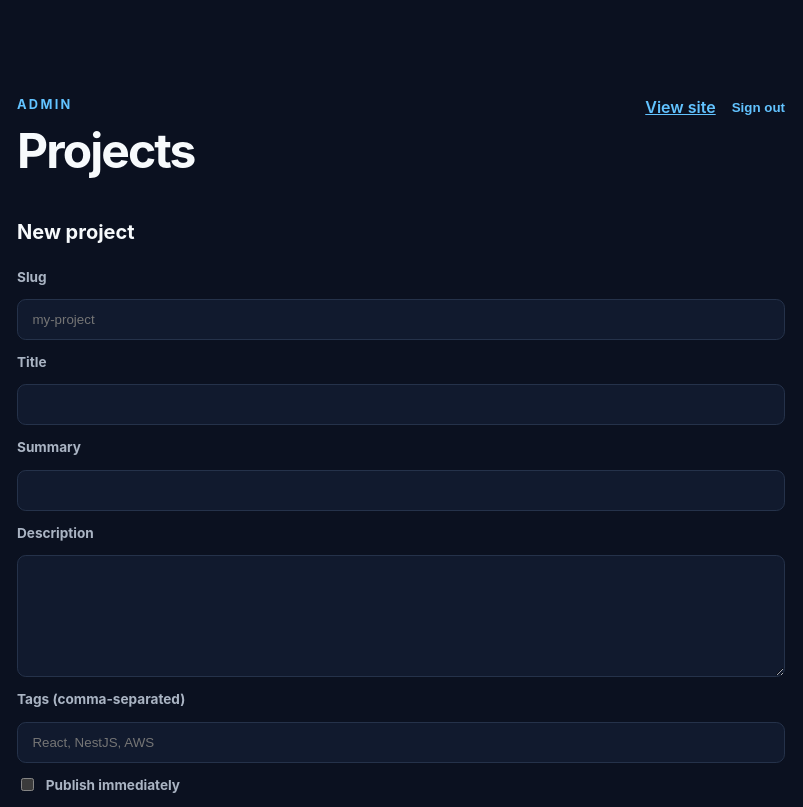
Test: App › creates a project from the admin form
This screenshot has width=803, height=807.
Expected: the heading "New project" is shown, [17,220,135,244]
Step 1. Type "new-project" into the field labelled "Slug" → (401, 320), box [17,299,785,340]
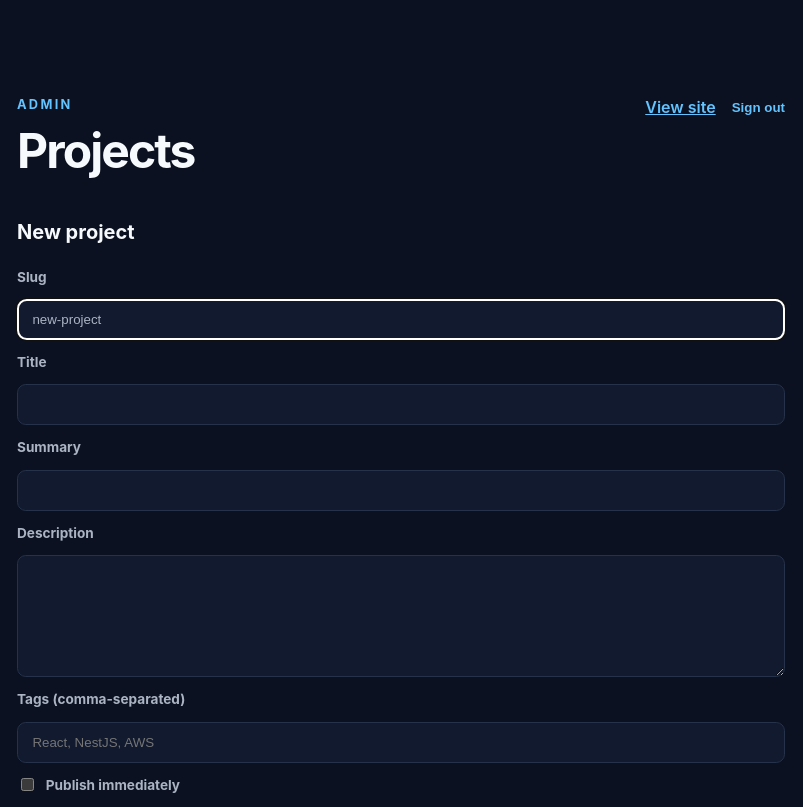
Step 2. Type "New Project" into the field labelled "Title" → (401, 405), box [17,384,785,425]
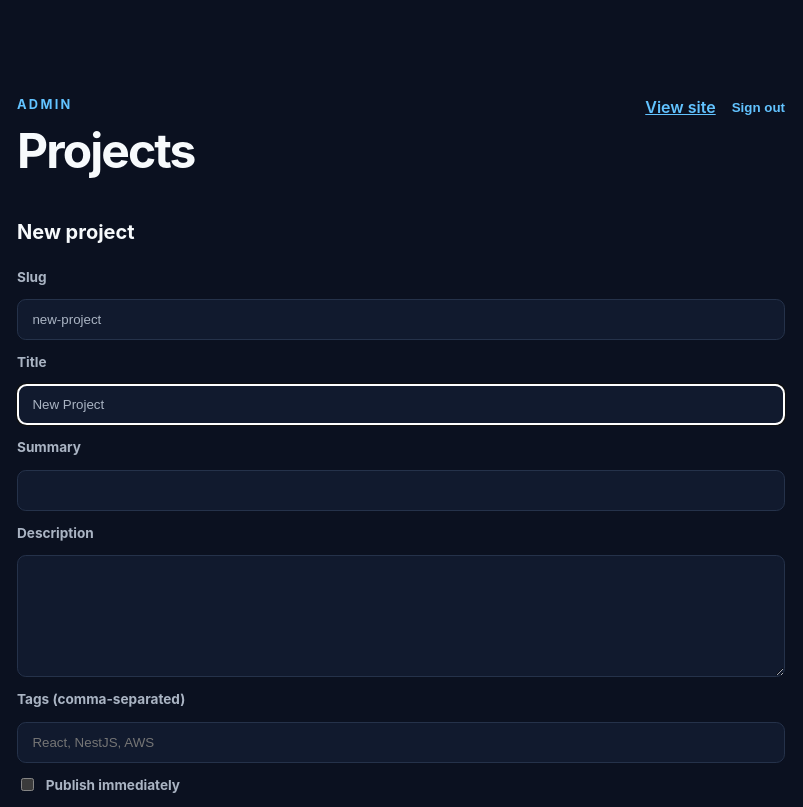
Step 3. Type "Created from admin UI for testing." into the field labelled "Summary" → (401, 490), box [17,470,785,511]
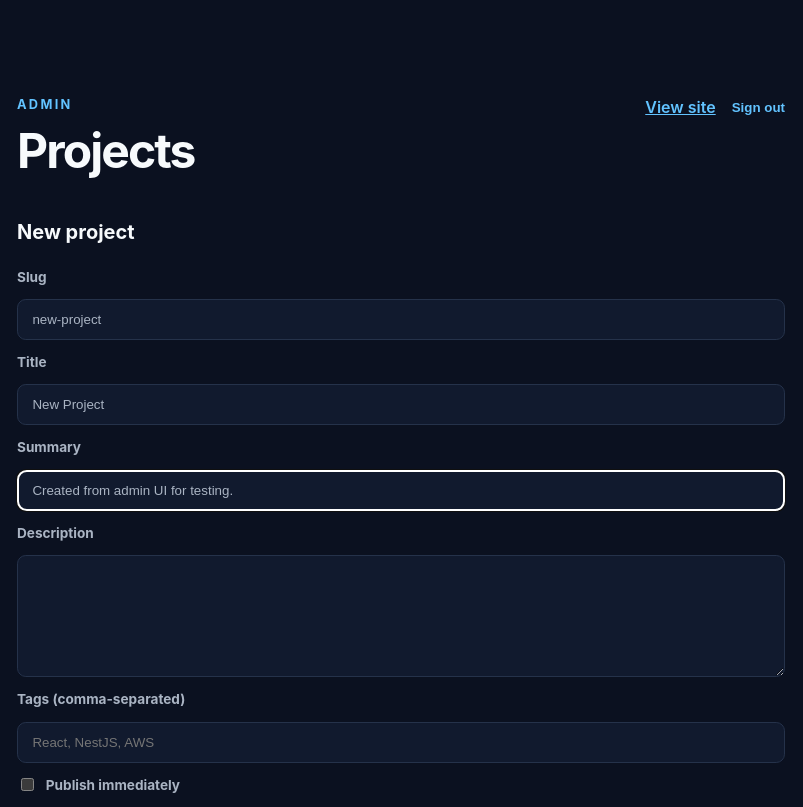
Step 4. Type "A longer description that satisfies the create validation rules." into the text box labelled "Description" → (401, 616), box [17,555,785,677]
(page scrolled)
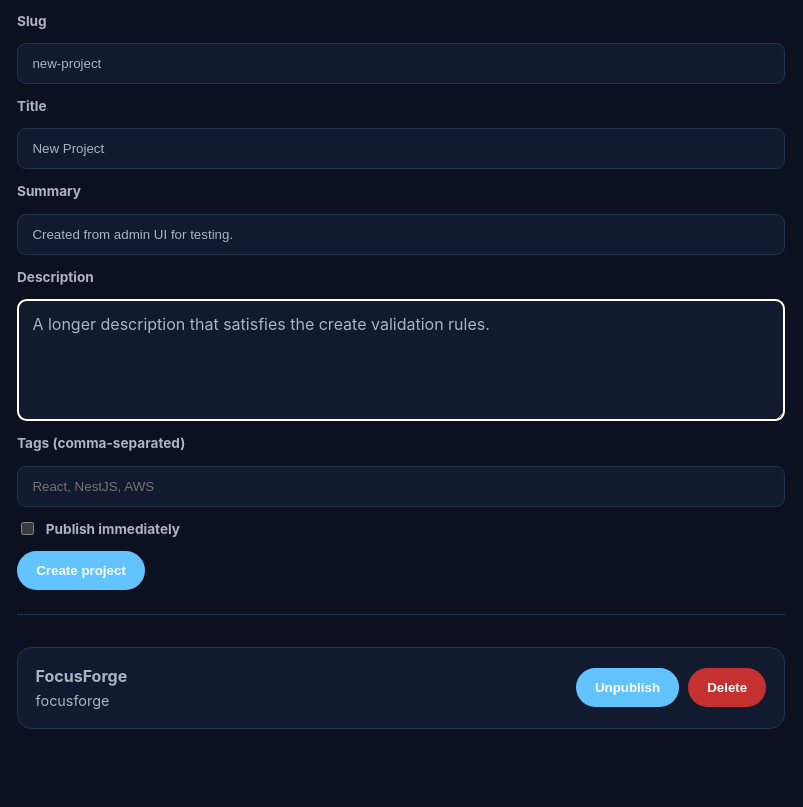
Step 5. Click the button "Create project" → (81, 570), box [17,551,145,590]
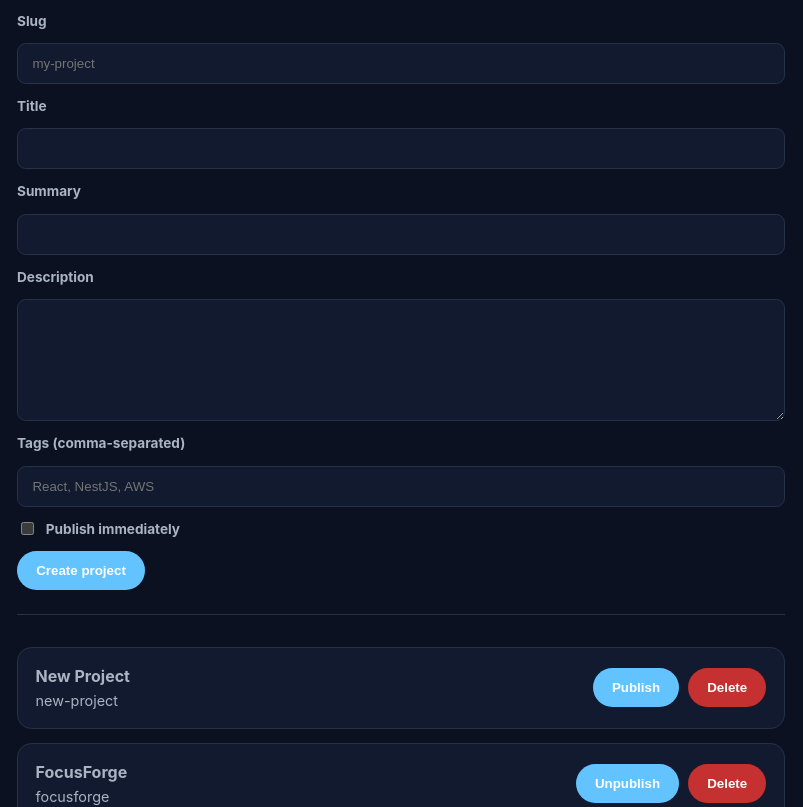
Now the text "New Project" is shown, box [36,664,130,688]
Now the text "new-project" is shown, box [36,692,118,709]
